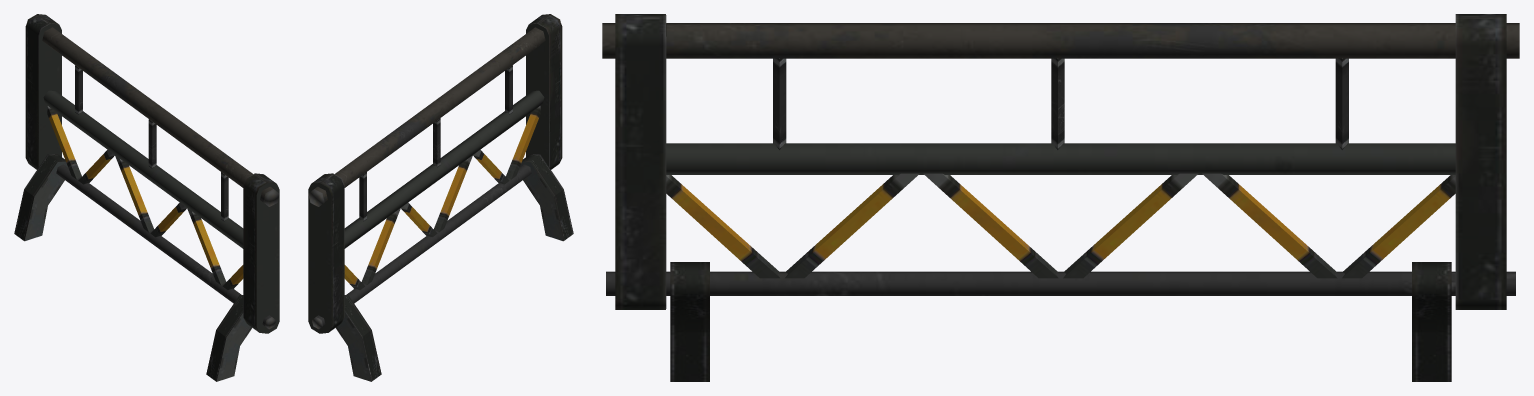
File: Barrier_2m_L2.fbx
3 renders of one model, left to right at view 1: azimuth 30°, elevation 25°; view 2: azimuth 150°, elevation 25°; view 3: azimuth 270°, elevation 25°, orthographic. The views are drawn at different scales.
Parts seen in each view (by area): view 1: Barrier_2m_L2; view 2: Barrier_2m_L2; view 3: Barrier_2m_L2.
Boxes of the visible parts, left/top/right/bottom form: Barrier_2m_L2: left=14, top=14, right=279, bottom=381; Barrier_2m_L2: left=308, top=14, right=573, bottom=381; Barrier_2m_L2: left=602, top=14, right=1519, bottom=381.
Size of the model in its own units: 23.75 by 92.89 by 200.
